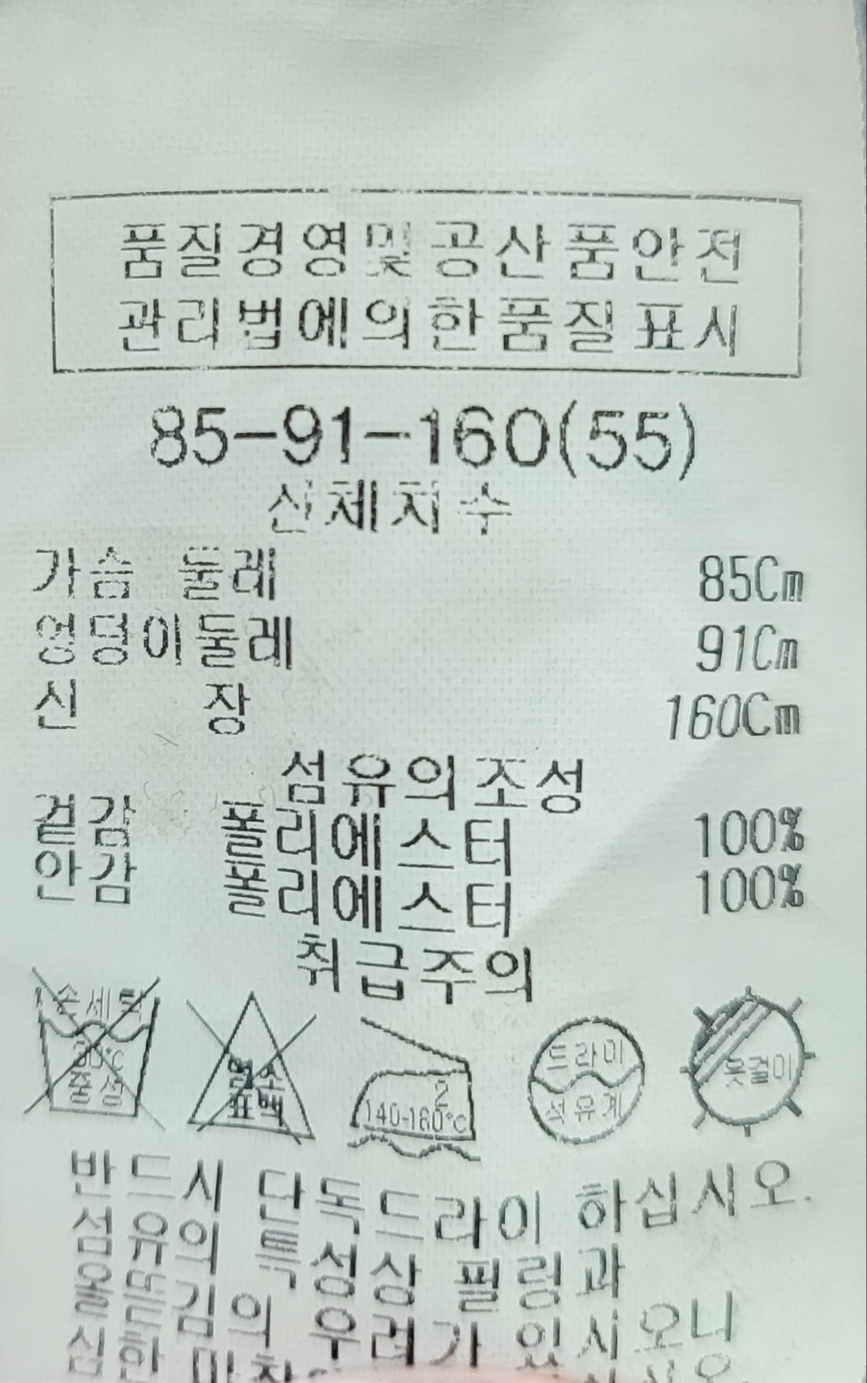KR_dry_clean_petroleum: (520, 998, 655, 1151)
KR_hand_wash_30_neutral: (11, 959, 170, 1131)
KR_hang_dry_in_shade: (672, 974, 820, 1137)
KR_iron_medium_temp_with_cloth: (336, 1012, 490, 1169)
KR_no_chlorine_bleach: (174, 984, 322, 1147)
